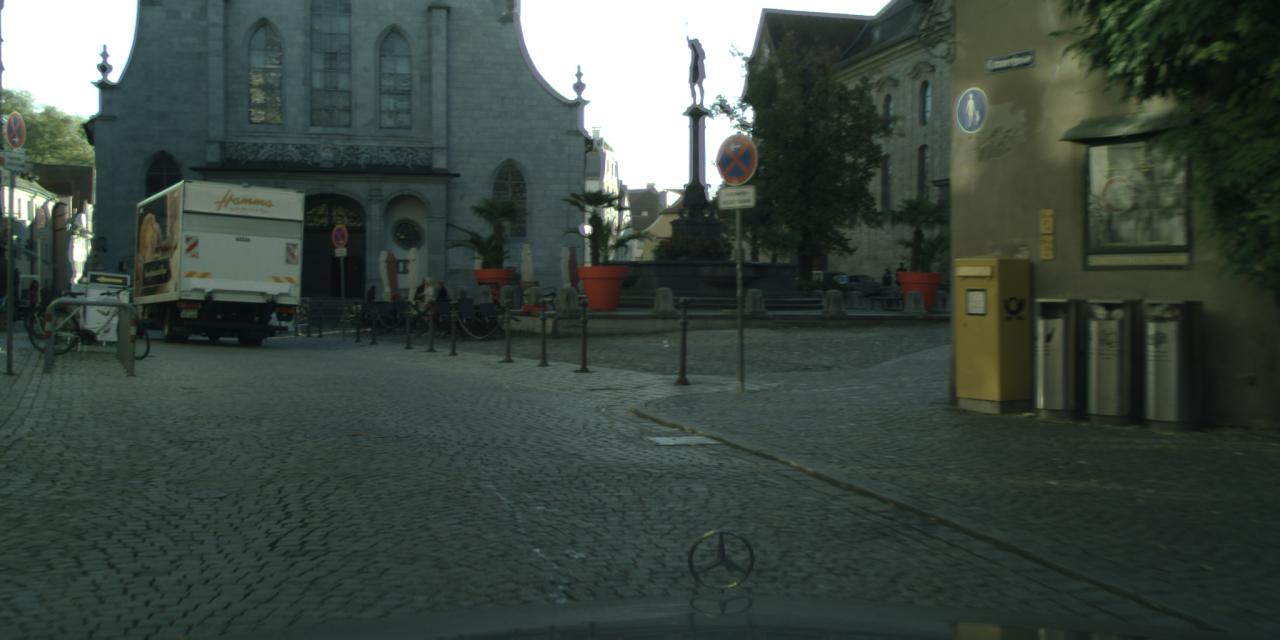ped: (418, 276, 439, 327), (431, 280, 450, 328), (26, 280, 42, 320), (363, 284, 378, 322)
